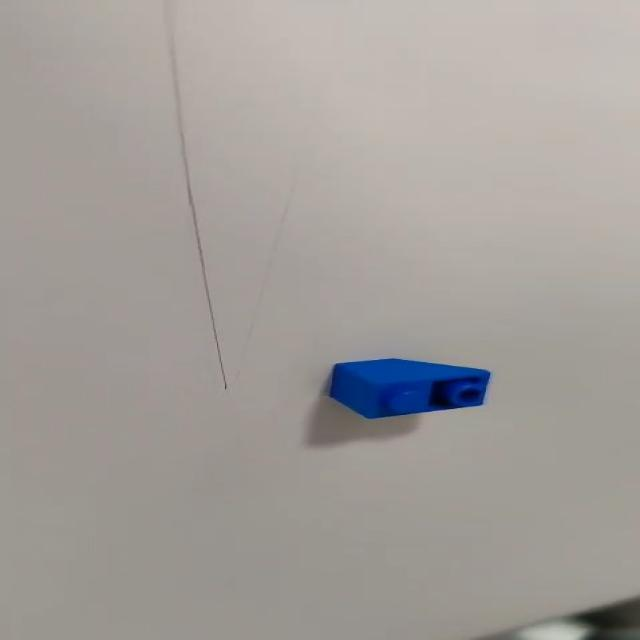X1x2x1: (324, 354, 497, 424)
